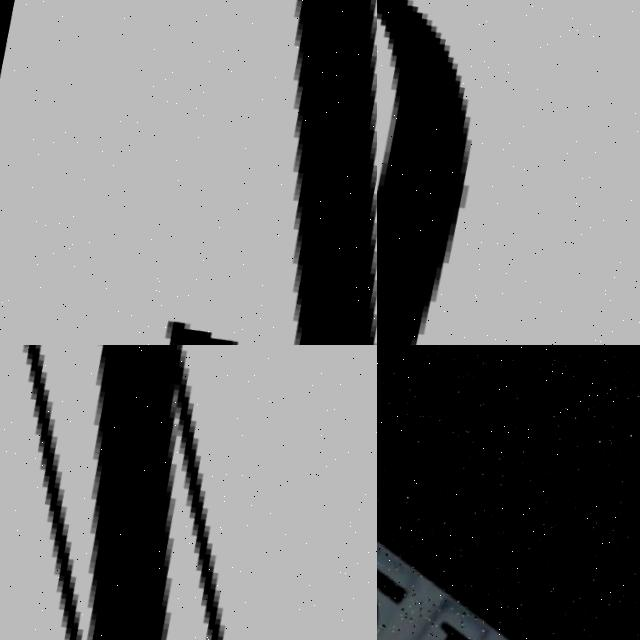1: (46, 0, 377, 345), (377, 602, 486, 640)
2: (377, 539, 424, 640)
N: (0, 345, 377, 640)
S: (377, 0, 635, 345)
